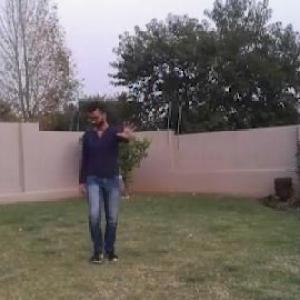follow_hand: (114, 114, 139, 144)
